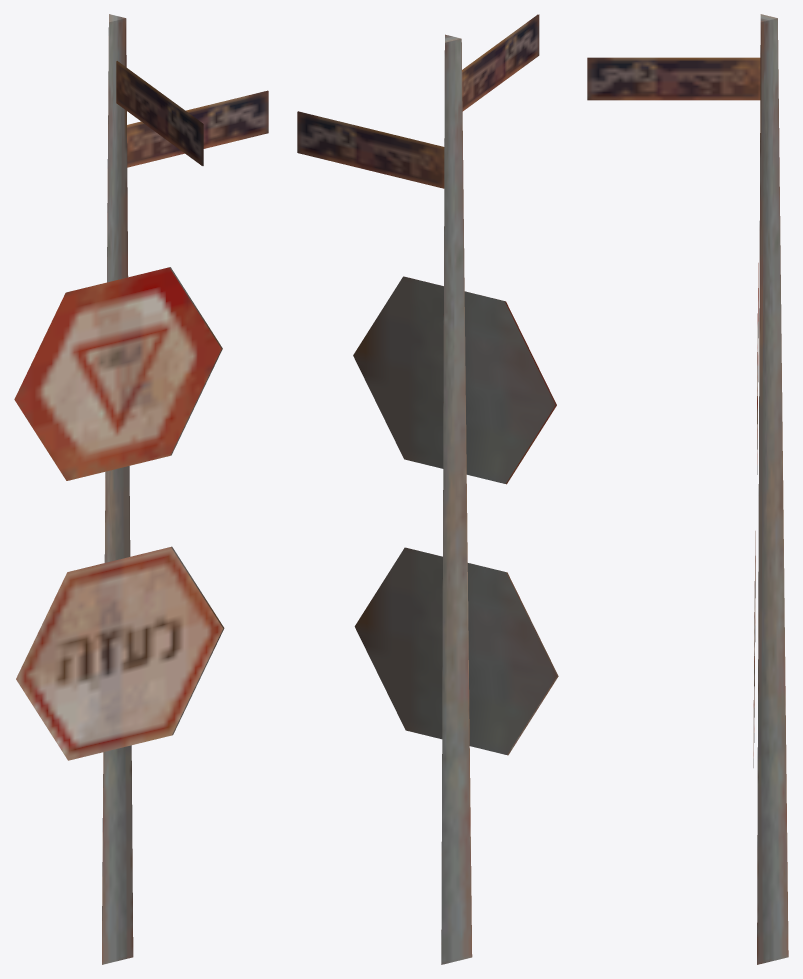
Rendered from Environment - Vegetation - Street Sign 01 - PMSign01.glb.
3 views of the same model, side by side, from view 1: azimuth 30°, elevation 25°; view 2: azimuth 150°, elevation 25°; view 3: azimuth 270°, elevation 25° (orthographic). The views are drawn at different scales.
Visible parts, largest first — view 1: PMSIGN01; view 2: PMSIGN01; view 3: PMSIGN01.
Part boxes in pixels (<box>): PMSIGN01: <box>14,14,268,964</box>; PMSIGN01: <box>297,14,558,964</box>; PMSIGN01: <box>587,14,788,964</box>.
Bounding box in the file's own units: 8.61 × 29.73 × 5.77.
Materials: 1 (1 with a texture image).
